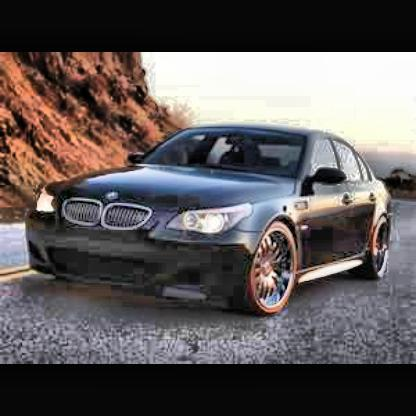BMW M5 Sedan 2010: (27, 124, 393, 315)
